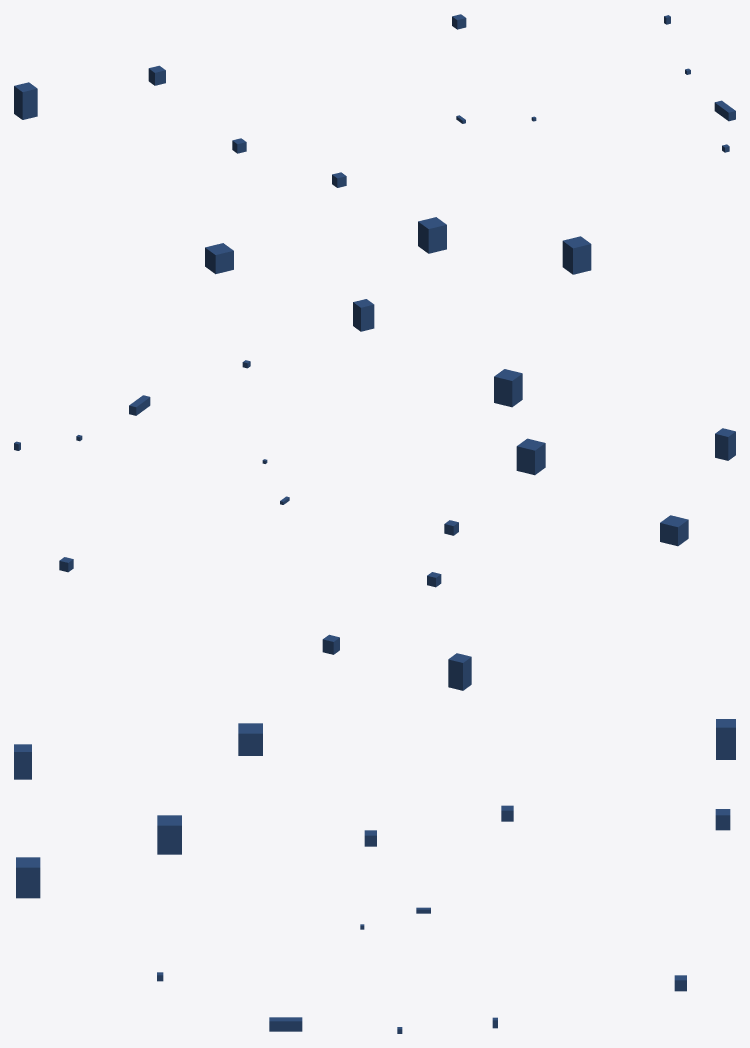
Rendered from AnimalPlaceholders.fbx.
The picture shows the model from 3 angles, top to bottom: view 1: azimuth 30°, elevation 25°; view 2: azimuth 150°, elevation 25°; view 3: azimuth 270°, elevation 25°; orthographic projection. The views are drawn at different scales.
Parts seen in each view (by area): view 1: Heron, Swan, Avocet, Lapwing, Godwit; view 2: Heron, Swan, Avocet, Lapwing, Godwit; view 3: Heron, Swan, Lapwing, Avocet, Godwit.
Part boxes in pixels (x1,y1,x2,y2): Heron: (562, 236, 591, 274); Swan: (418, 217, 446, 253); Avocet: (14, 82, 37, 119); Lapwing: (205, 243, 233, 274); Godwit: (353, 299, 374, 331); Heron: (494, 369, 522, 407); Swan: (516, 438, 545, 475); Avocet: (448, 653, 471, 690); Lapwing: (660, 515, 688, 546); Godwit: (715, 428, 735, 460); Heron: (16, 857, 40, 898); Swan: (157, 815, 181, 854); Lapwing: (238, 723, 262, 755); Avocet: (716, 719, 735, 759); Godwit: (14, 744, 31, 779).
Size of the model in its own units: 15.76 by 1.06 by 14.99.
